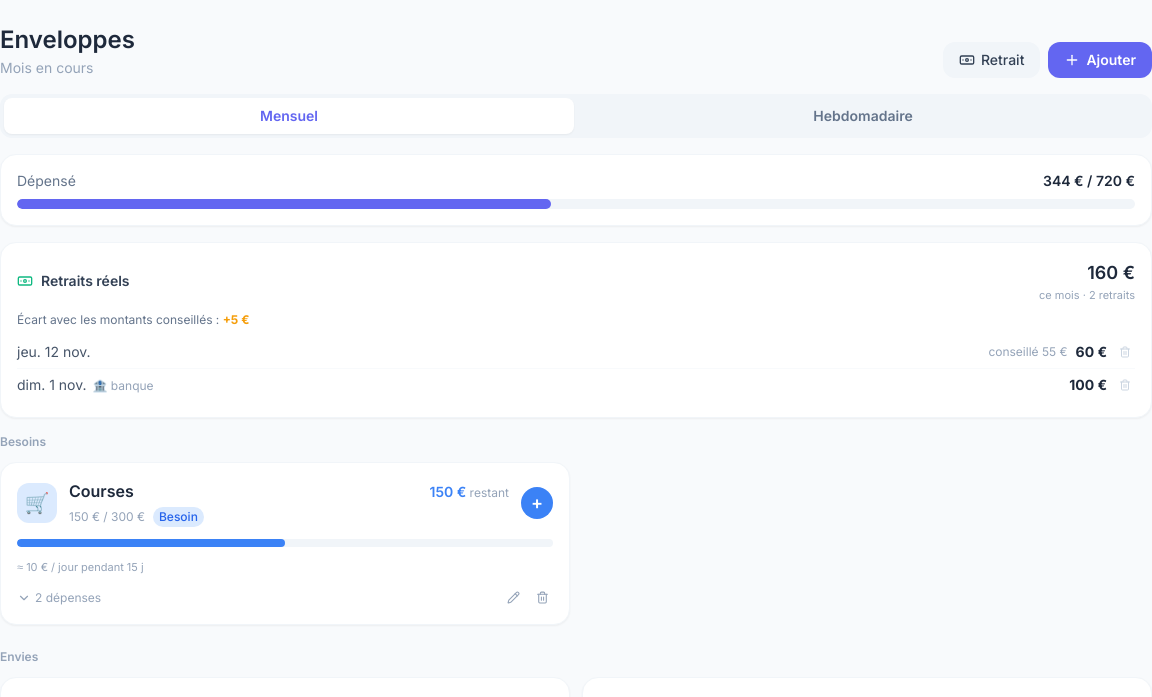
Test: Enveloppes › créer, modifier, supprimer une enveloppe
The image size is (1152, 697).
Later steps or results of the test are not shown.
Click the button "Ajouter" at (1100, 60), box [1048,42,1151,78]
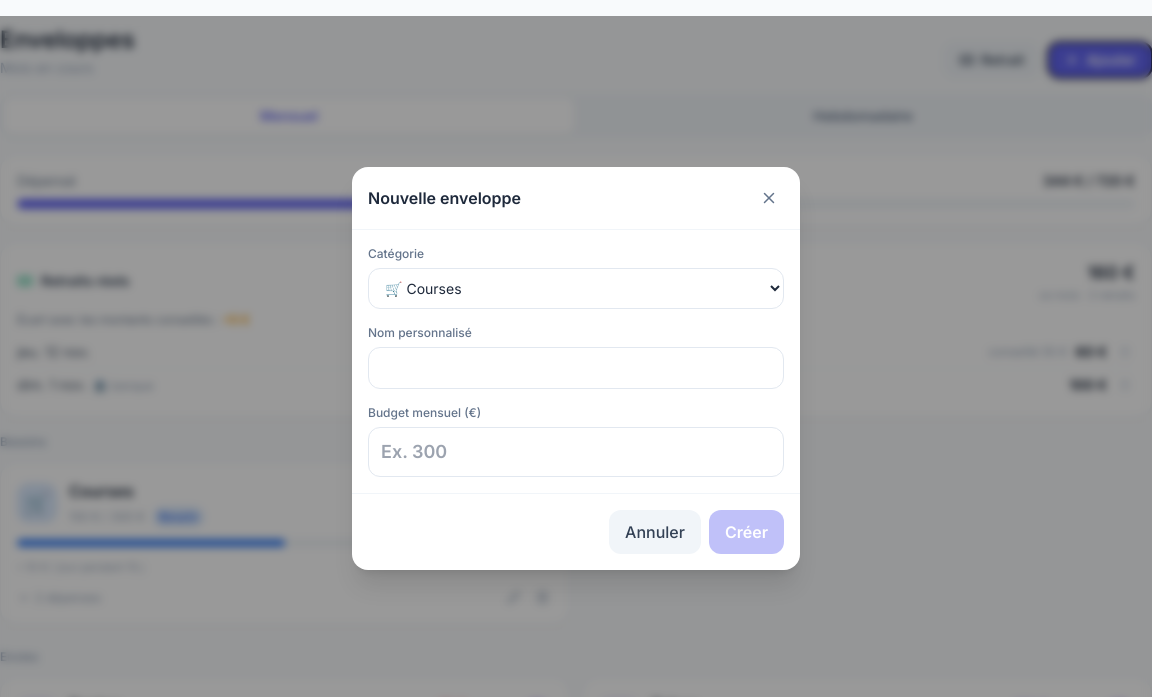
Select "✈️ Vacances" in the dropdown at (576, 288), box [368,268,784,308]
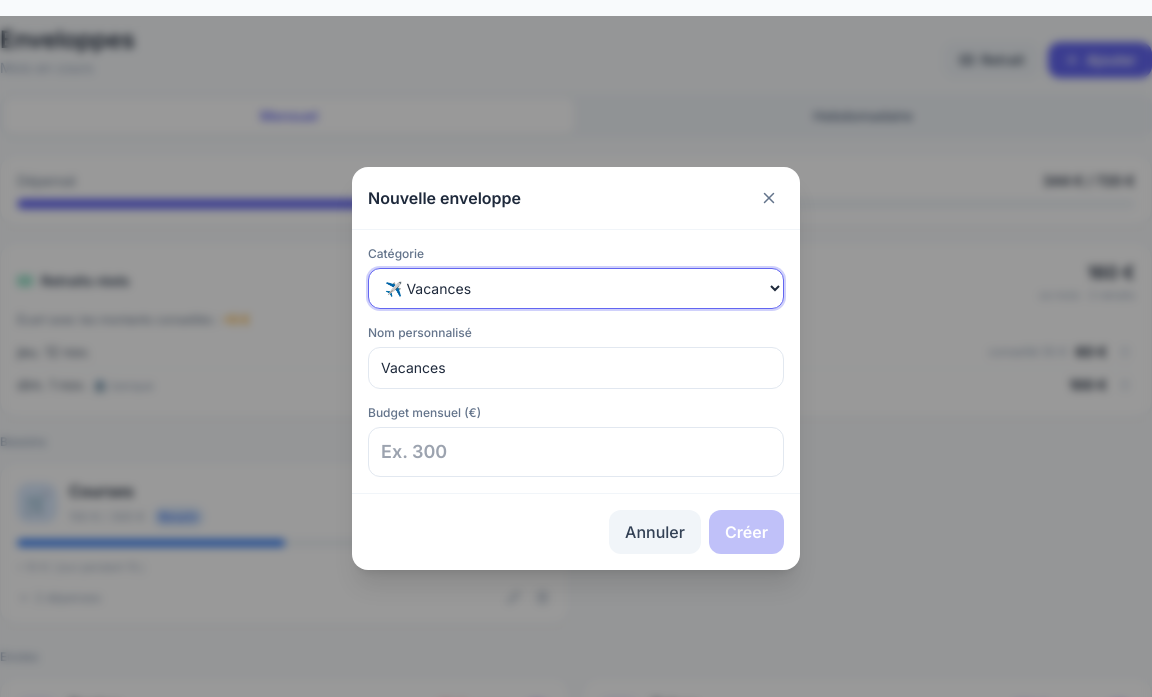
Expected: the field holds "Vacances", [368,346,784,388]
Type "87" into the number field with placeholder "Ex. 300" at (576, 452), box [368,426,784,476]
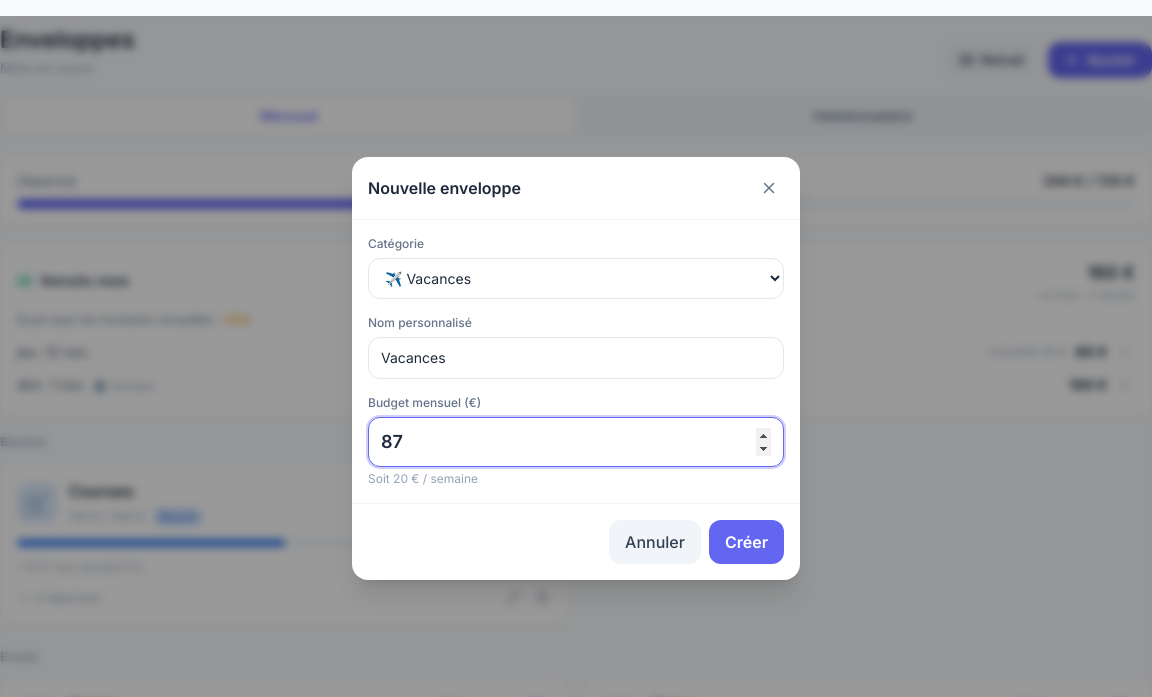
Expected: the text "Soit 20 € / semaine" is shown, [368,470,478,486]
